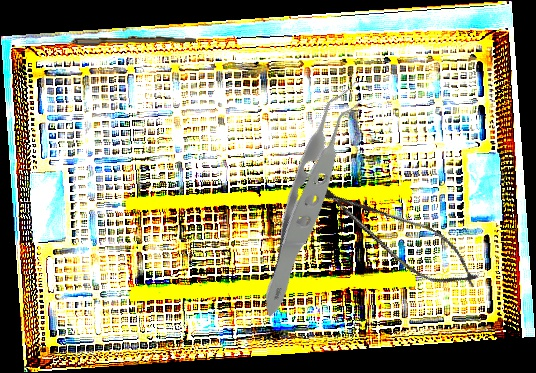Micro Scissor: (298, 165, 492, 304)
Surgical Spoon: (30, 34, 197, 48)
Tissue Forceps: (187, 76, 442, 319)
